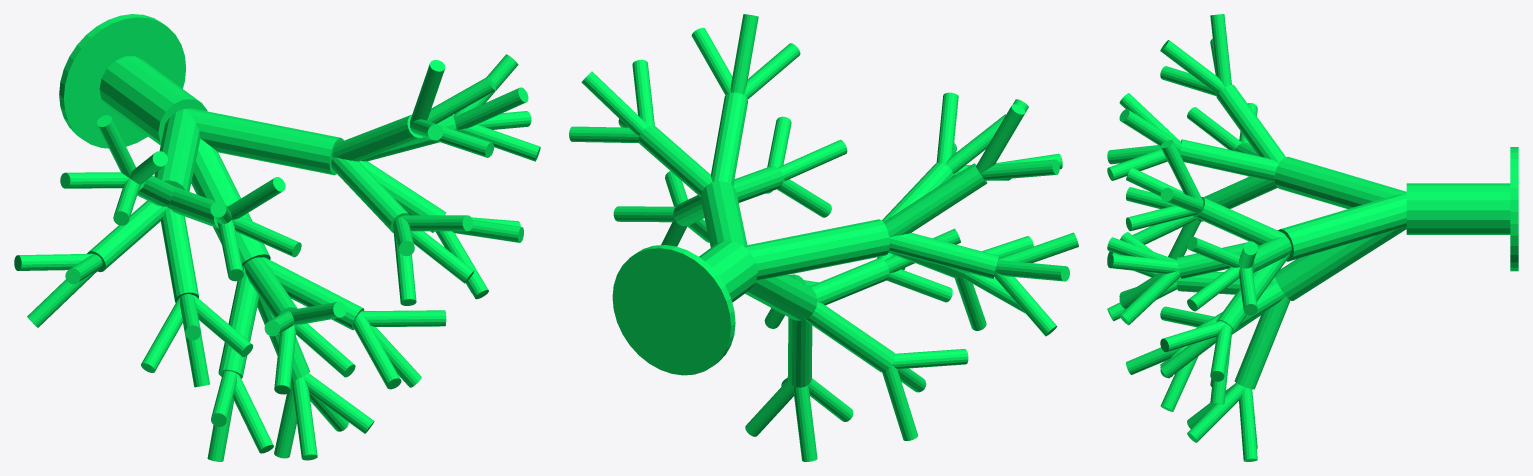
The model's file is 00ff66_fractal.obj.
3 renders of one model, left to right at view 1: azimuth 30°, elevation 25°; view 2: azimuth 150°, elevation 25°; view 3: azimuth 270°, elevation 25°, orthographic. The views are drawn at different scales.
Visible parts, largest first — view 1: 00ff66_fractal; view 2: 00ff66_fractal; view 3: 00ff66_fractal.
Part boxes in pixels (x1,y1,x2,y2): 00ff66_fractal: [14, 14, 540, 461]; 00ff66_fractal: [569, 14, 1078, 461]; 00ff66_fractal: [1107, 14, 1518, 461].
Bounding box in the file's own units: 0.1265 × 0.095 × 0.1.
